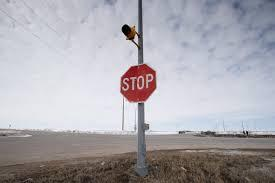Pole: (137, 103, 145, 176)
Sign: (120, 65, 157, 103)
